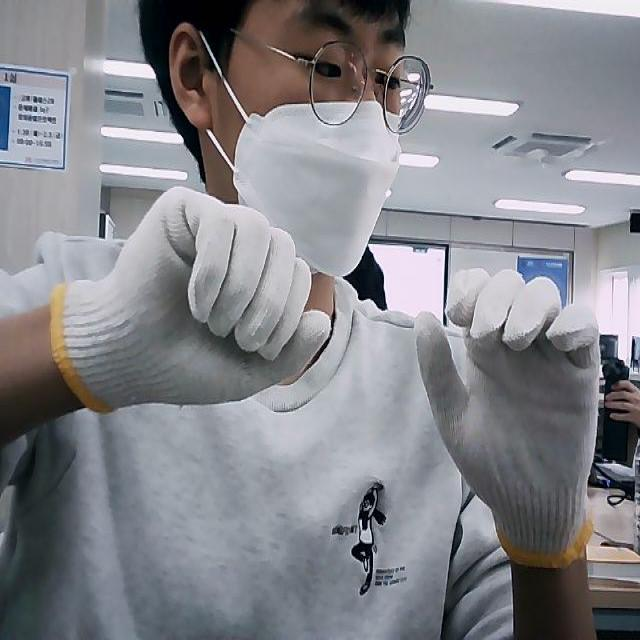GLOVE: (51, 188, 332, 410), (416, 264, 600, 565)
